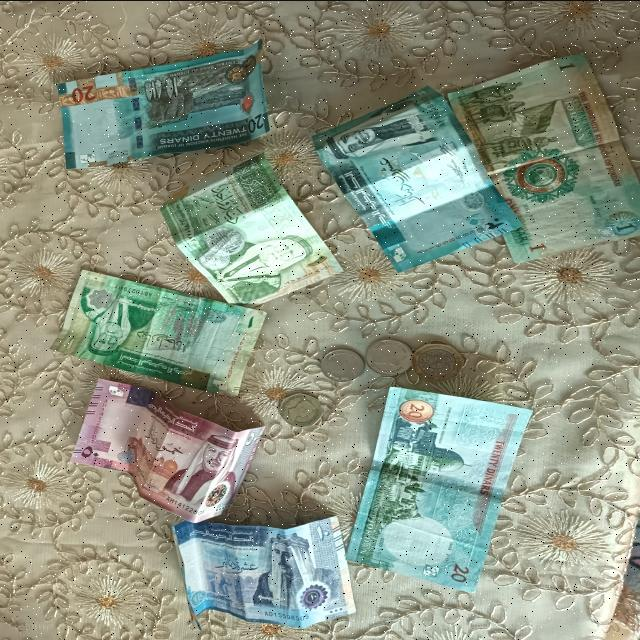1-dinar: (445, 46, 640, 262), (49, 262, 264, 396), (160, 159, 342, 307)
10-coins: (364, 335, 414, 375)
10-dinar: (168, 513, 360, 628)
20-dinar: (307, 81, 524, 273), (346, 382, 532, 594), (55, 38, 274, 170)
25-coins: (278, 391, 320, 426)
5-coins: (320, 345, 362, 381)
50-coins: (410, 340, 465, 382)
50-dinar: (73, 375, 266, 525)
